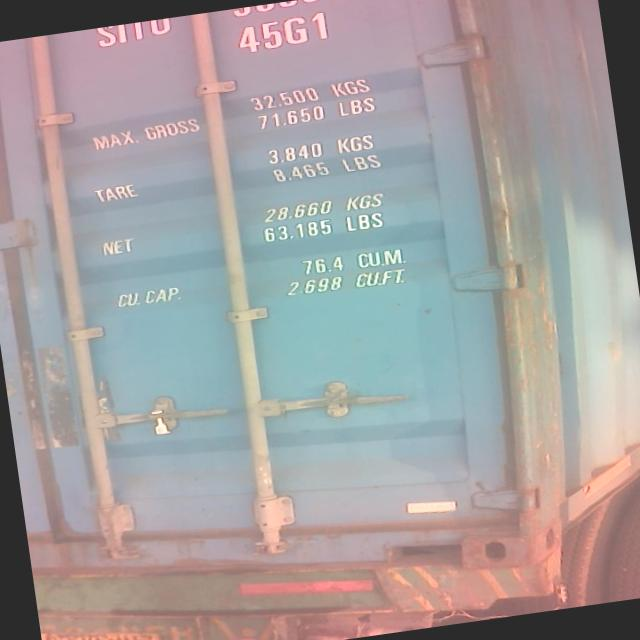seal: (146, 404, 172, 438)
